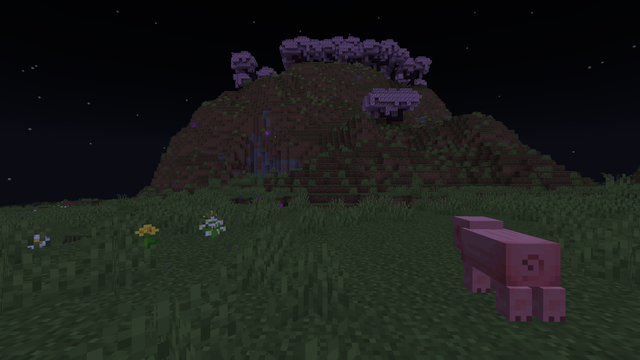cochons: (453, 226, 568, 315)
